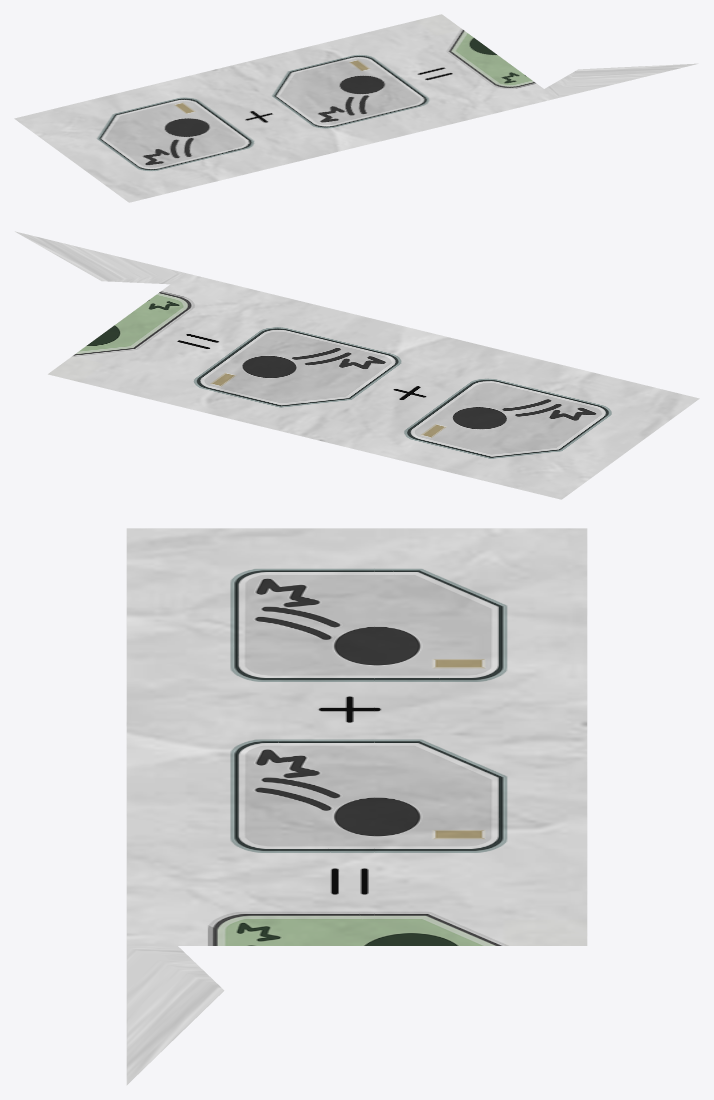
The model's file is Blueprint1.fbx.
3 views of the same model, one above another, from view 1: azimuth 30°, elevation 25°; view 2: azimuth 150°, elevation 25°; view 3: azimuth 270°, elevation 25° (orthographic). The views are drawn at different scales.
Visible parts, largest first — view 1: 平面; view 2: 平面; view 3: 平面.
Part boxes in pixels (bbox=[...]): 平面: bbox=[14, 14, 698, 202]; 平面: bbox=[15, 231, 699, 499]; 平面: bbox=[126, 528, 587, 1085].
Bounding box in the file's own units: 200 × 0 × 69.86.
1 material, 1 textured.
